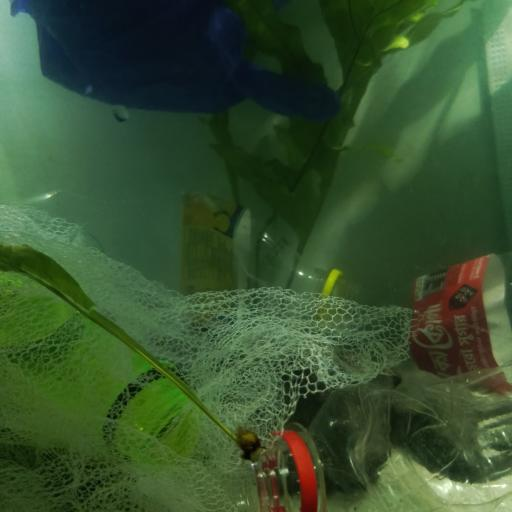glove: (9, 0, 338, 125)
net: (0, 200, 423, 512)
plastic_bottle: (0, 236, 197, 464), (249, 362, 512, 512), (103, 189, 362, 332), (361, 251, 512, 395)
